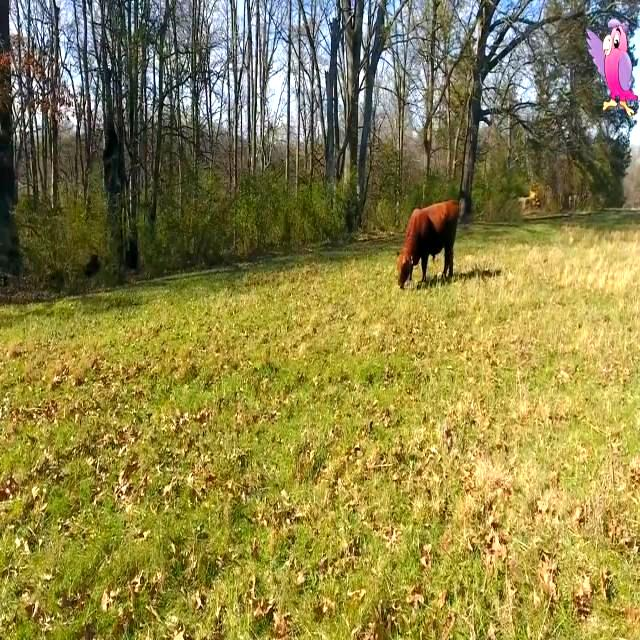COW: (398, 201, 459, 288)
